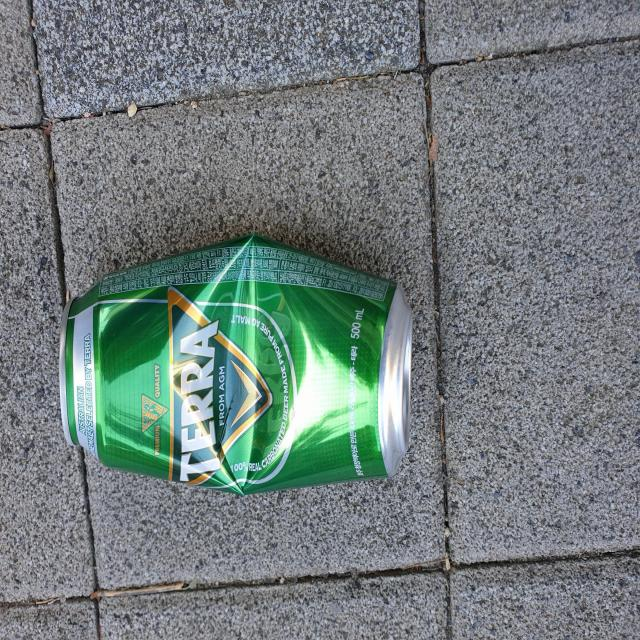can: (59, 234, 412, 495)
